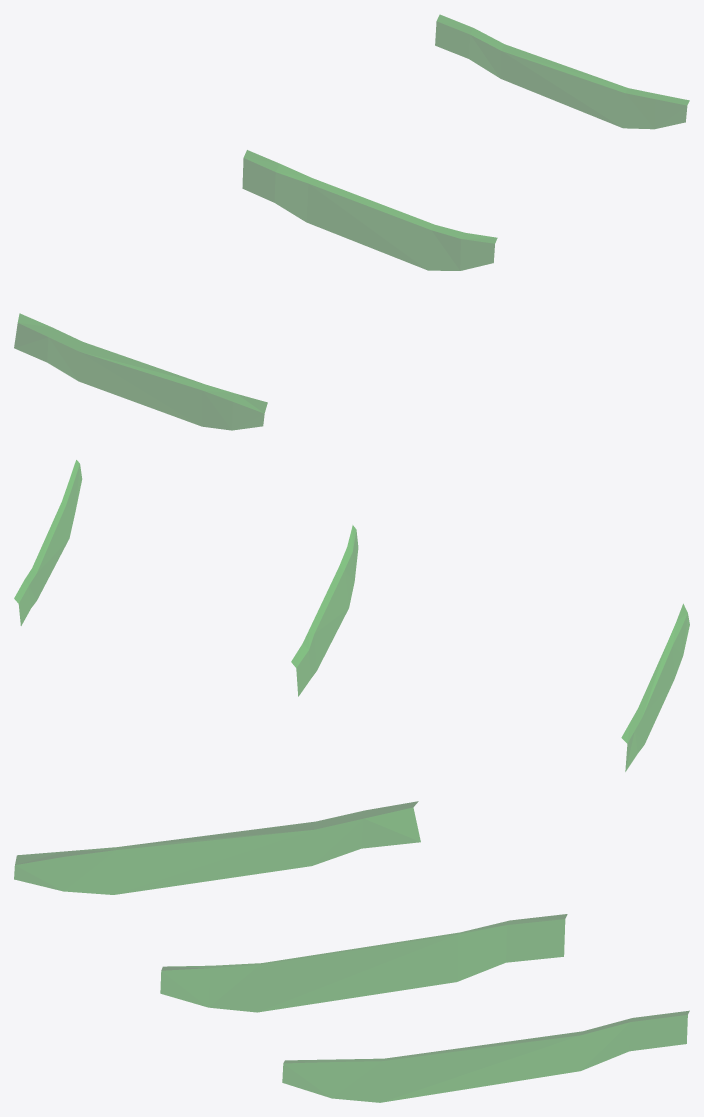
Rendered from wall1.obj.
3 renders of one model, top to bottom at view 1: azimuth 30°, elevation 25°; view 2: azimuth 150°, elevation 25°; view 3: azimuth 270°, elevation 25°, orthographic. The views are drawn at different scales.
Bounding box in the file's own units: 38.28 × 8.34 × 27.96.
